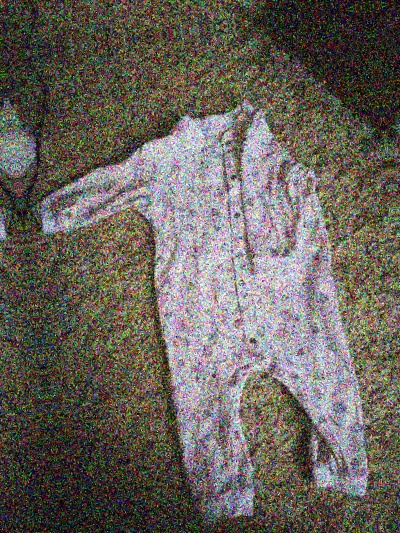Body: (22, 82, 400, 533), (0, 130, 54, 533)
